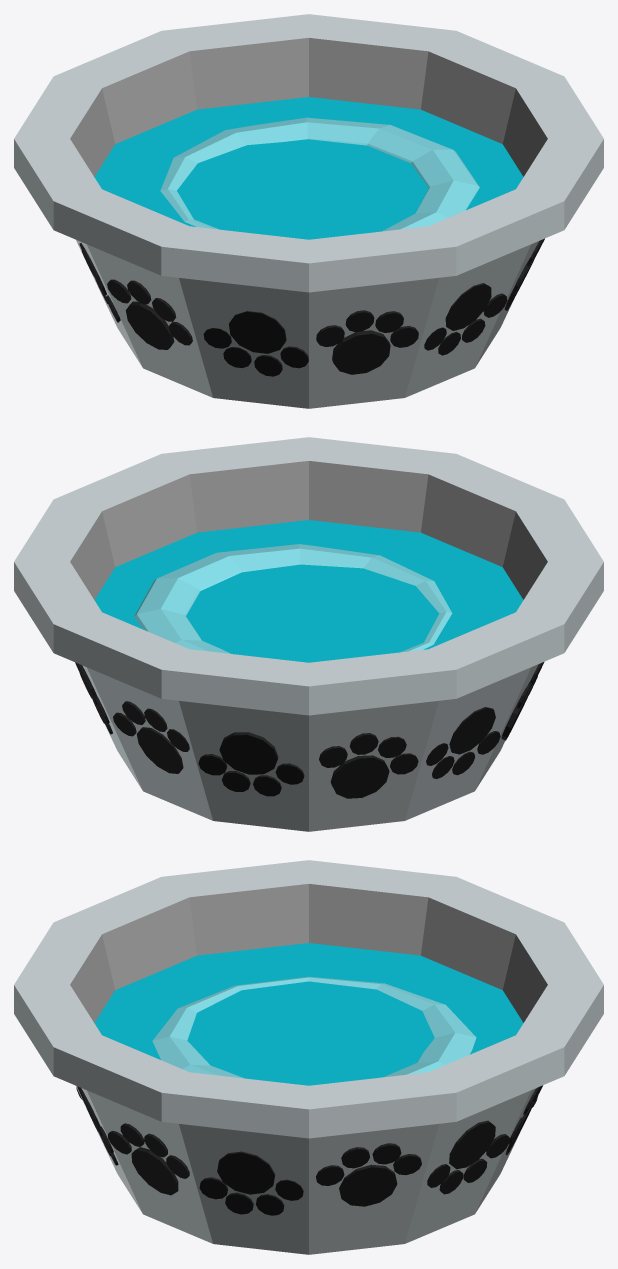
Rendered from dog-bowl.glb.
3 renders of one model, top to bottom at view 1: azimuth 30°, elevation 25°; view 2: azimuth 150°, elevation 25°; view 3: azimuth 270°, elevation 25°, orthographic.
Visible parts, largest first — view 1: Node; view 2: Node; view 3: Node.
Part boxes in pixels (x1,y1,x2,y2): Node: (14, 14, 603, 408); Node: (14, 437, 603, 831); Node: (14, 860, 603, 1254).
Size of the model in its own units: 0.7 by 0.2476 by 0.7.
